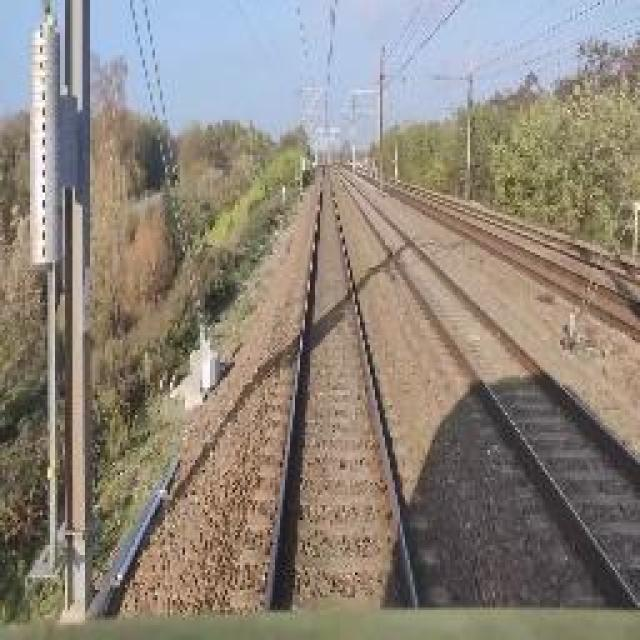rail: (239, 165, 456, 617)
